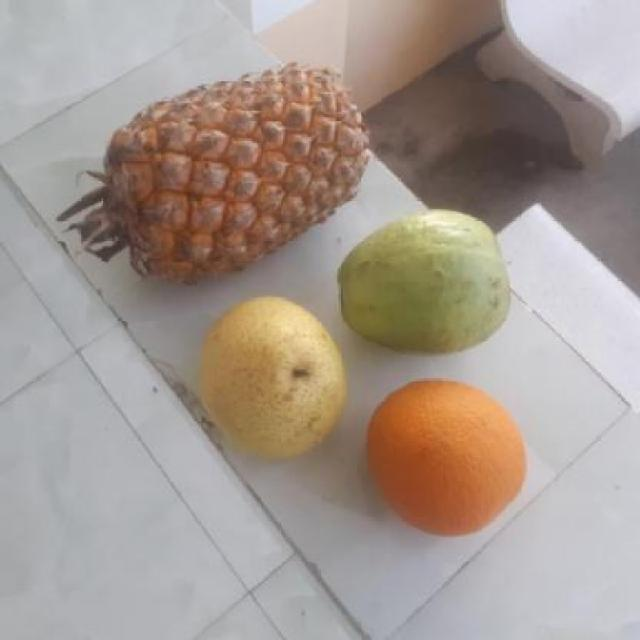guava: (336, 201, 507, 352)
oren: (358, 376, 529, 539)
pear: (192, 298, 346, 453)
pineapple: (89, 70, 360, 285)
